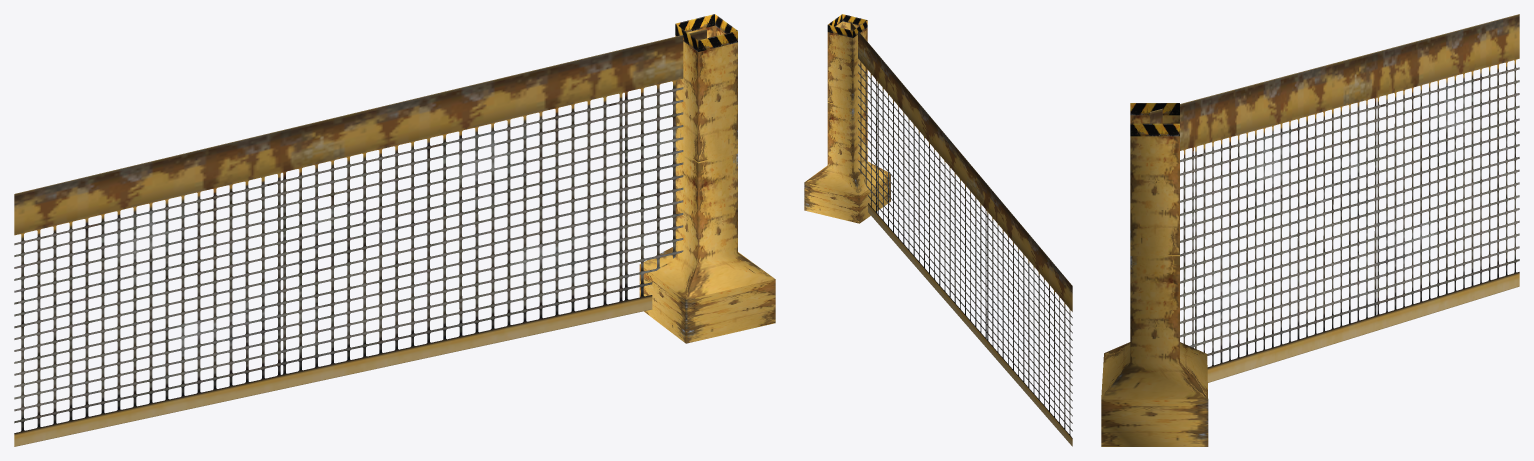
Rendered from High_fence_long.fbx.
3 views of the same model, side by side, from view 1: azimuth 30°, elevation 25°; view 2: azimuth 150°, elevation 25°; view 3: azimuth 270°, elevation 25° (orthographic). The views are drawn at different scales.
Parts seen in each view (by area): view 1: Mesh_0114.rip, Mesh_0112.rip; view 2: Mesh_0114.rip, Mesh_0112.rip; view 3: Mesh_0114.rip, Mesh_0112.rip.
Boxes of the visible parts, box(x1,y1,x2,y2) form: Mesh_0114.rip: box(14, 29, 706, 446); Mesh_0112.rip: box(639, 14, 775, 343); Mesh_0114.rip: box(850, 22, 1072, 446); Mesh_0112.rip: box(804, 14, 890, 223); Mesh_0114.rip: box(1150, 14, 1519, 382); Mesh_0112.rip: box(1101, 103, 1208, 446).
Size of the model in its own units: 857 by 601 by 509.
Materials: 2 (2 with a texture image).
